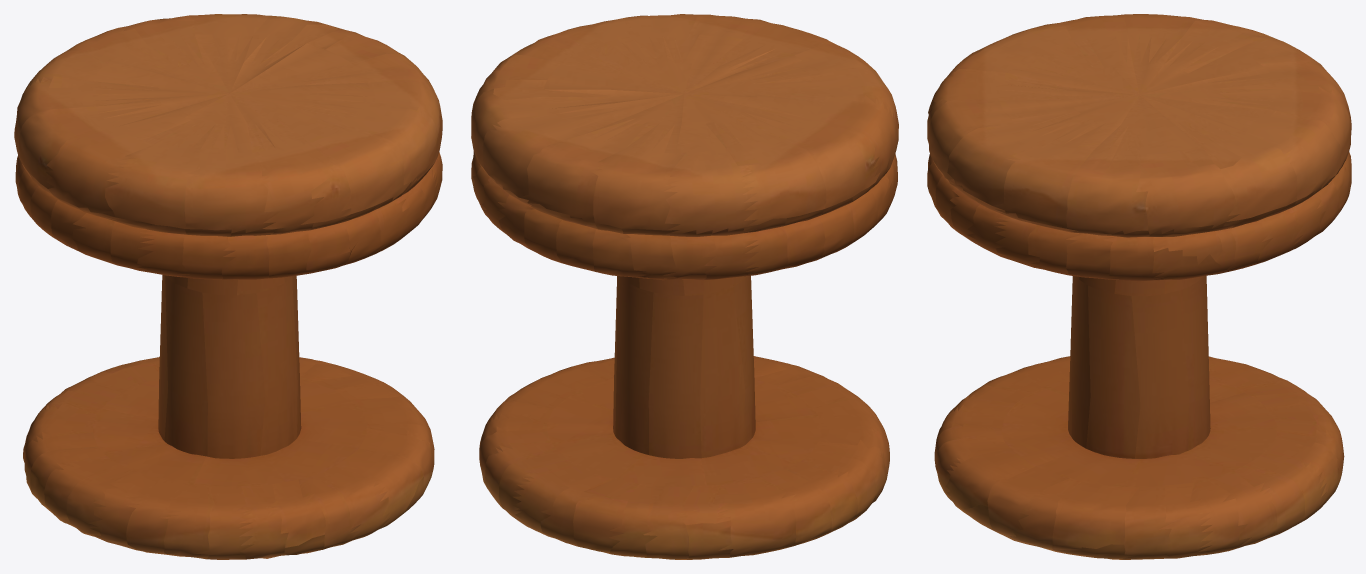
Rendered from la_taburete.glb.
The picture shows the model from 3 angles, left to right: view 1: azimuth 30°, elevation 25°; view 2: azimuth 150°, elevation 25°; view 3: azimuth 270°, elevation 25°; orthographic projection.
Bounding box in the file's own units: 1 × 1 × 0.9922.
Materials: 1 (1 with a texture image).
